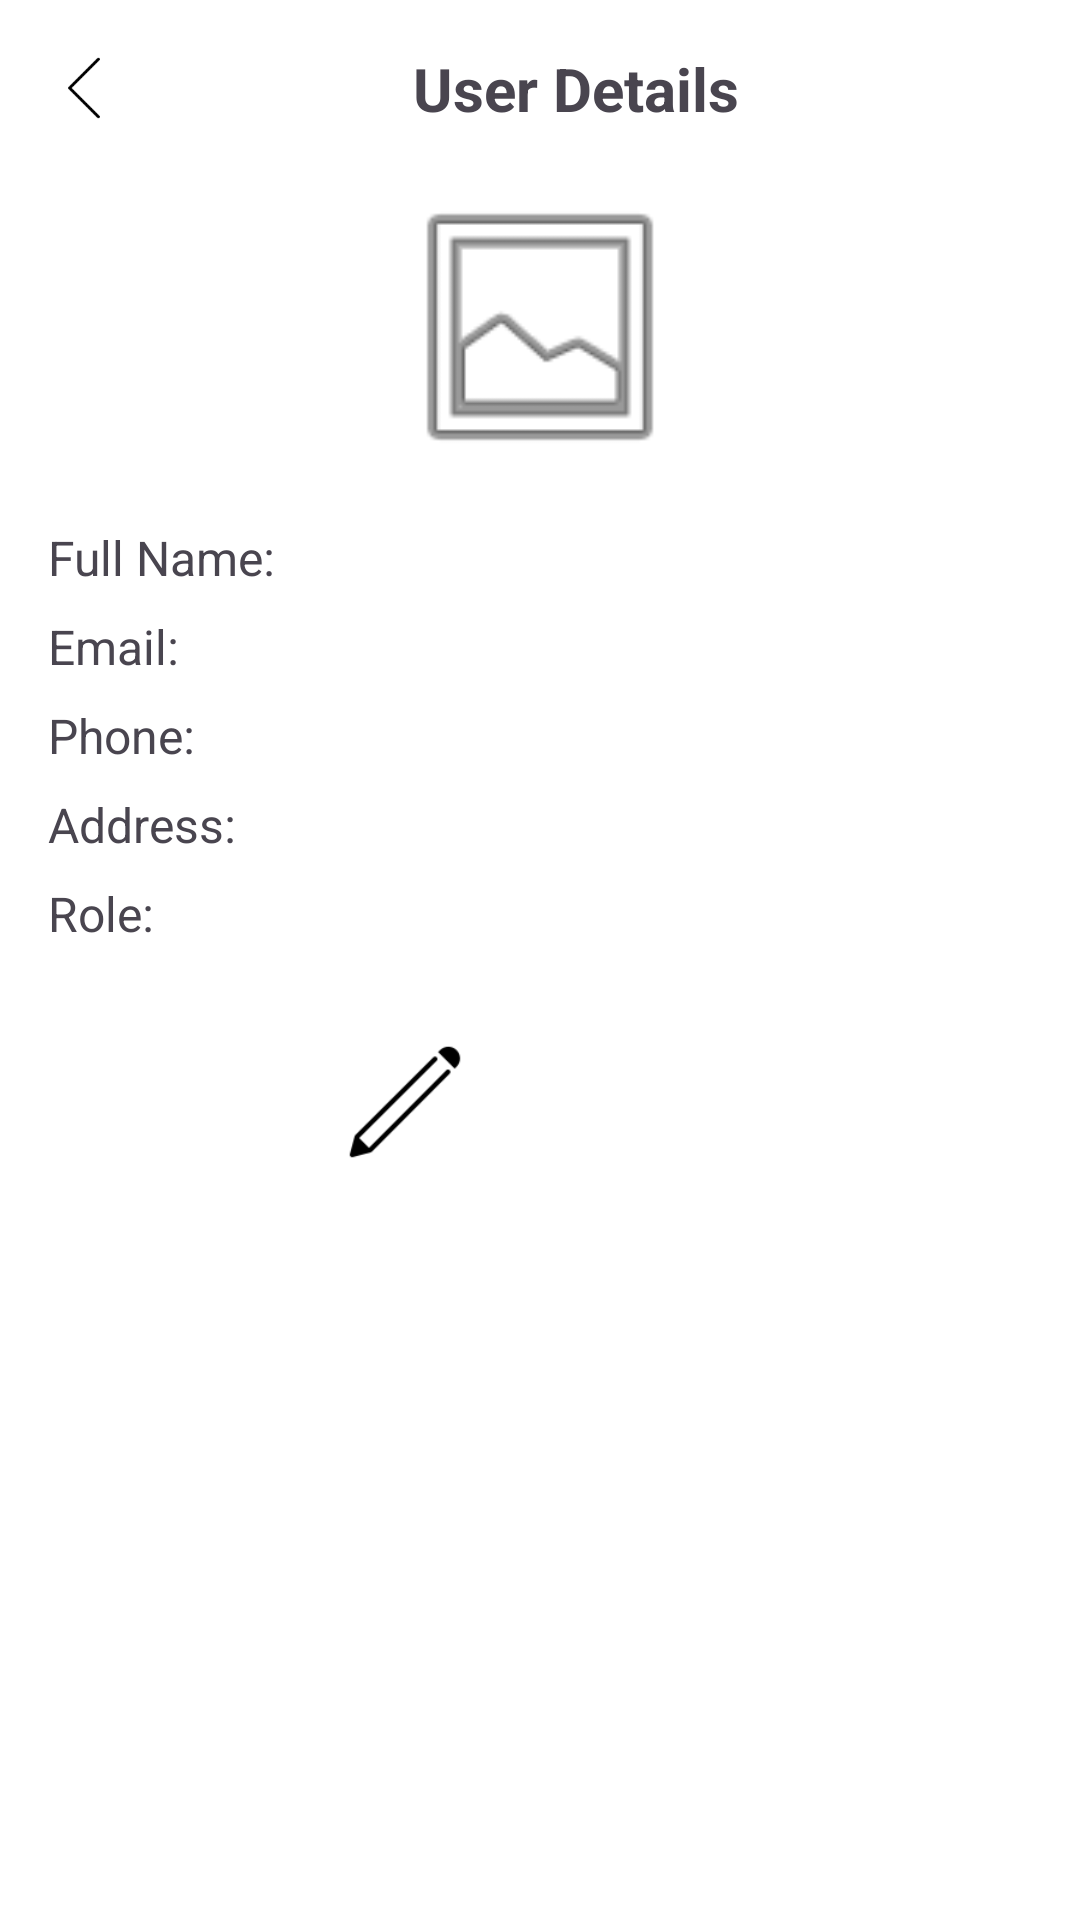

Screen size 1080x1920. Icon name, then its center in pixels as (x,y):
Back: (84,88)
Edit: (405,1102)
gallery: (540,327)
